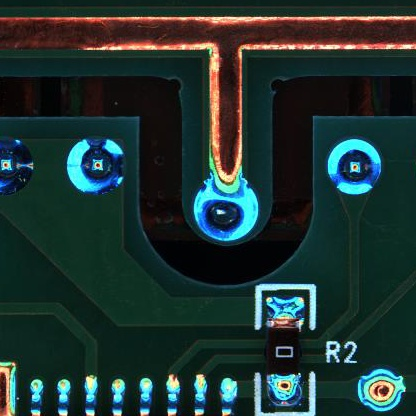spot: (194, 179, 261, 242), (69, 137, 126, 195), (327, 139, 383, 196), (355, 367, 407, 413)
